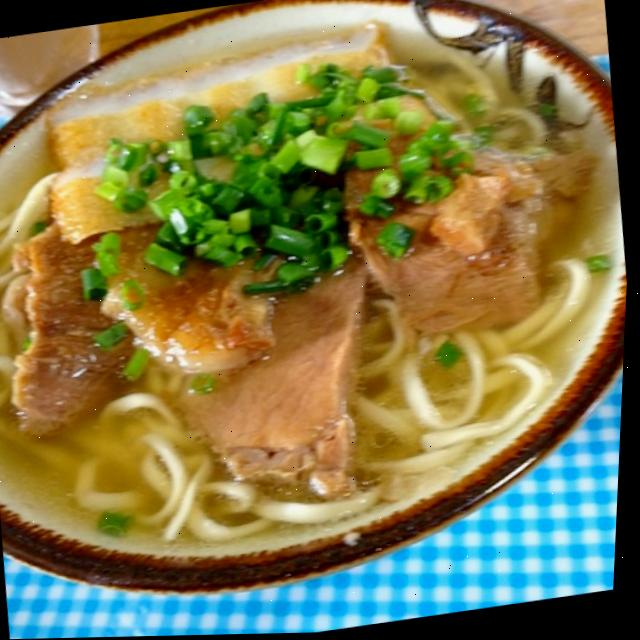熟制海鲜: (0, 205, 592, 640)
